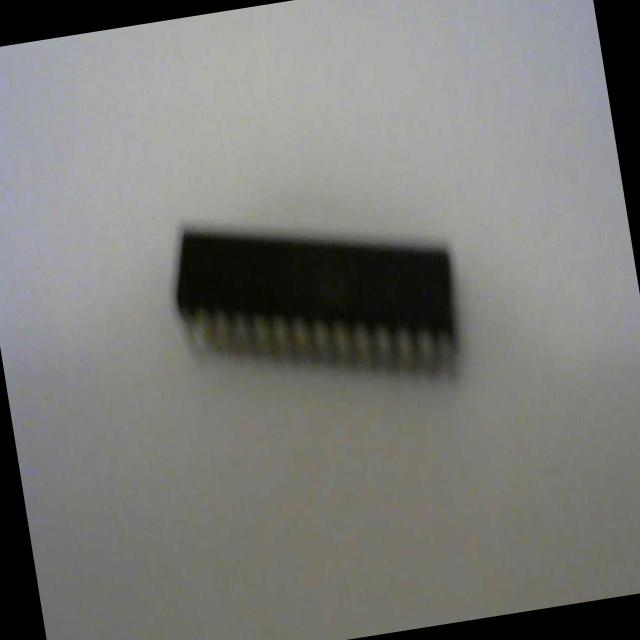atmega: (160, 180, 473, 424)
